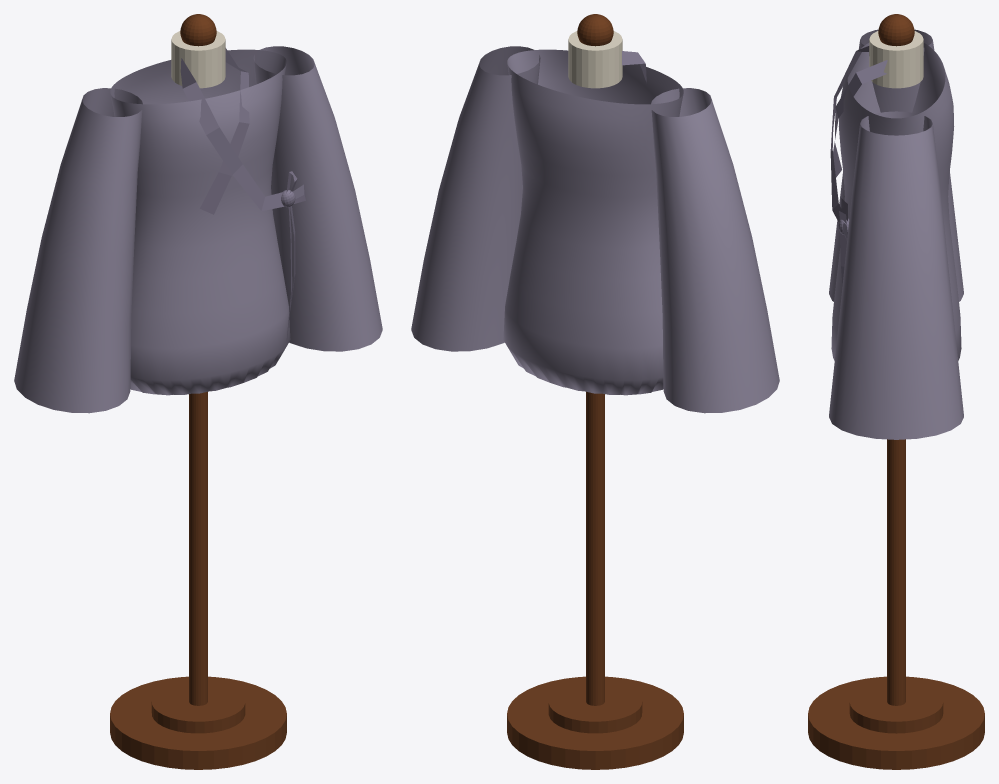
Rendered from ao_trang_phat_tu.obj.
The picture shows the model from 3 angles, left to right: view 1: azimuth 30°, elevation 25°; view 2: azimuth 150°, elevation 25°; view 3: azimuth 270°, elevation 25°; orthographic projection.
Parts seen in each view (by area): view 1: Than_Ao_Trang, Tay_Ao_Trai, Tay_Ao_Phai, Chan_De_Go, Tru_Go, Go_Tien_De, Nep_Co_MaNoCanh_Chinh, Co_Ma_No_Canh, Nep_Co_MaNoCanh_Phu, Chop_Co_Go; view 2: Than_Ao_Trang, Tay_Ao_Trai, Tay_Ao_Phai, Chan_De_Go, Tru_Go, Go_Tien_De, Co_Ma_No_Canh, Chop_Co_Go; view 3: Tay_Ao_Phai, Chan_De_Go, Than_Ao_Trang, Tru_Go, Go_Tien_De, Tay_Ao_Trai, Co_Ma_No_Canh, Nep_Co_MaNoCanh_Phu, Chop_Co_Go, Nep_Co_MaNoCanh_Chinh.
Part boxes in pixels (<box>): Than_Ao_Trang: <box>110,49,290,395</box>; Tay_Ao_Trai: <box>14,88,142,413</box>; Tay_Ao_Phai: <box>253,46,382,351</box>; Chan_De_Go: <box>110,676,286,769</box>; Tru_Go: <box>189,391,207,705</box>; Go_Tien_De: <box>151,682,245,733</box>; Nep_Co_MaNoCanh_Chinh: <box>180,58,283,211</box>; Co_Ma_No_Canh: <box>171,31,225,88</box>; Nep_Co_MaNoCanh_Phu: <box>200,48,249,214</box>; Chop_Co_Go: <box>180,14,216,46</box>; Than_Ao_Trang: <box>503,49,683,395</box>; Tay_Ao_Trai: <box>651,88,779,413</box>; Tay_Ao_Phai: <box>411,46,540,351</box>; Chan_De_Go: <box>507,676,683,769</box>; Tru_Go: <box>586,391,604,705</box>; Go_Tien_De: <box>548,682,642,733</box>; Co_Ma_No_Canh: <box>568,31,622,88</box>; Chop_Co_Go: <box>577,14,613,46</box>; Tay_Ao_Phai: <box>829,111,963,439</box>; Chan_De_Go: <box>808,676,984,769</box>; Than_Ao_Trang: <box>831,43,961,360</box>; Tru_Go: <box>887,439,905,705</box>; Go_Tien_De: <box>849,682,943,733</box>; Tay_Ao_Trai: <box>829,29,963,301</box>; Co_Ma_No_Canh: <box>869,31,923,88</box>; Nep_Co_MaNoCanh_Phu: <box>833,60,887,177</box>; Chop_Co_Go: <box>878,14,914,46</box>; Nep_Co_MaNoCanh_Chinh: <box>830,46,869,221</box>.
Size of the model in its own units: 0.77 by 1.52 by 0.34.
